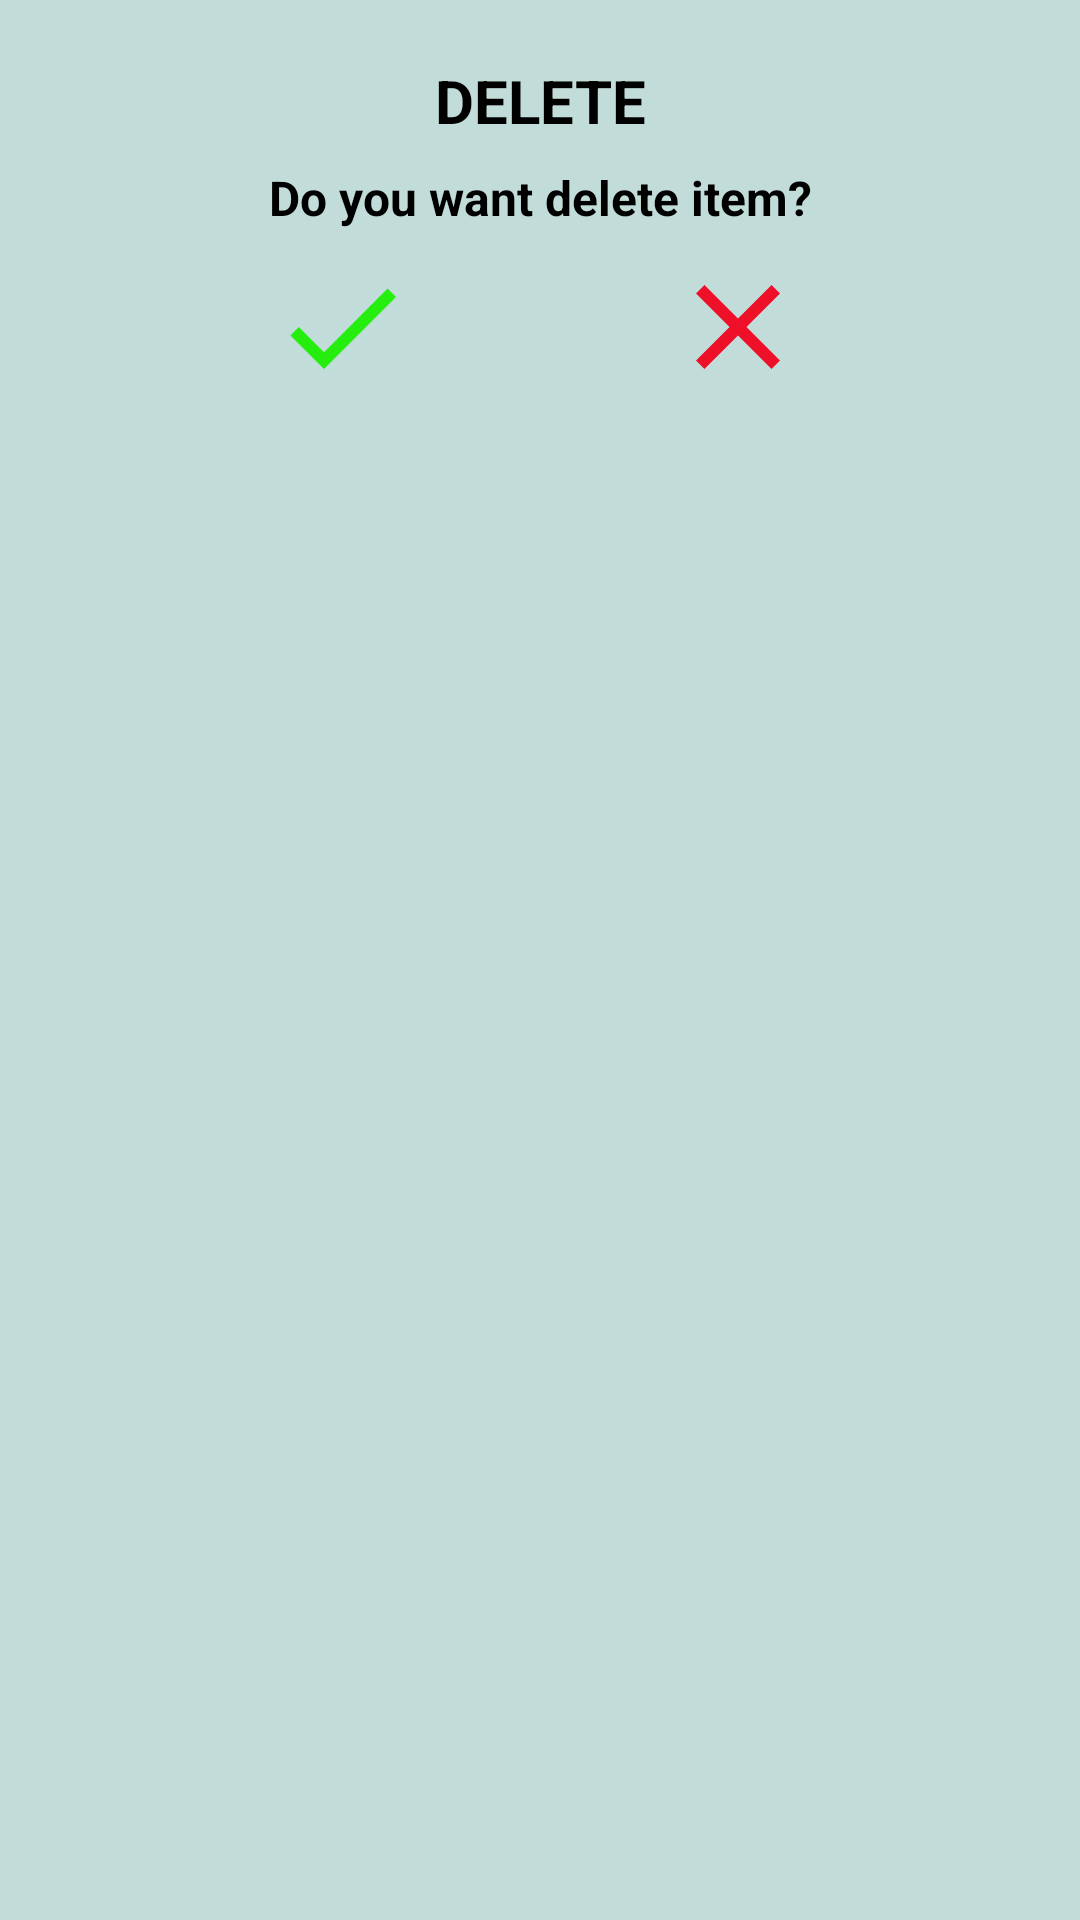

Screen size 1080px x 1920px. Icon name, then its center in pixels as point (x, y):
yes: point (343, 328)
